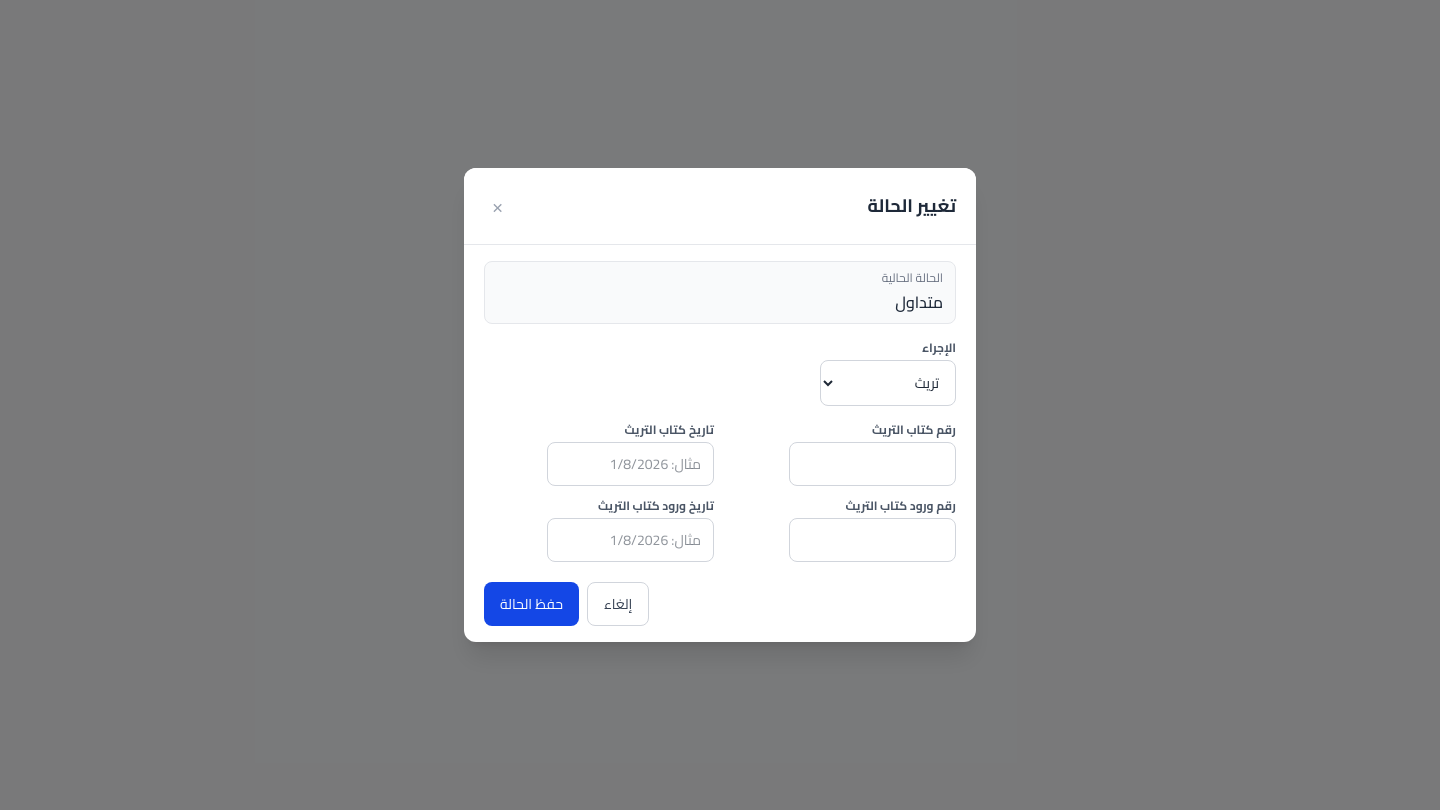
StatusChangeModal › يرفض منفذ جبريا دون تاريخ قرار الإحالة القطعية
Select "منفذ جبريا" in the dropdown labelled "الإجراء" at [888, 383], box [820,360,956,406]
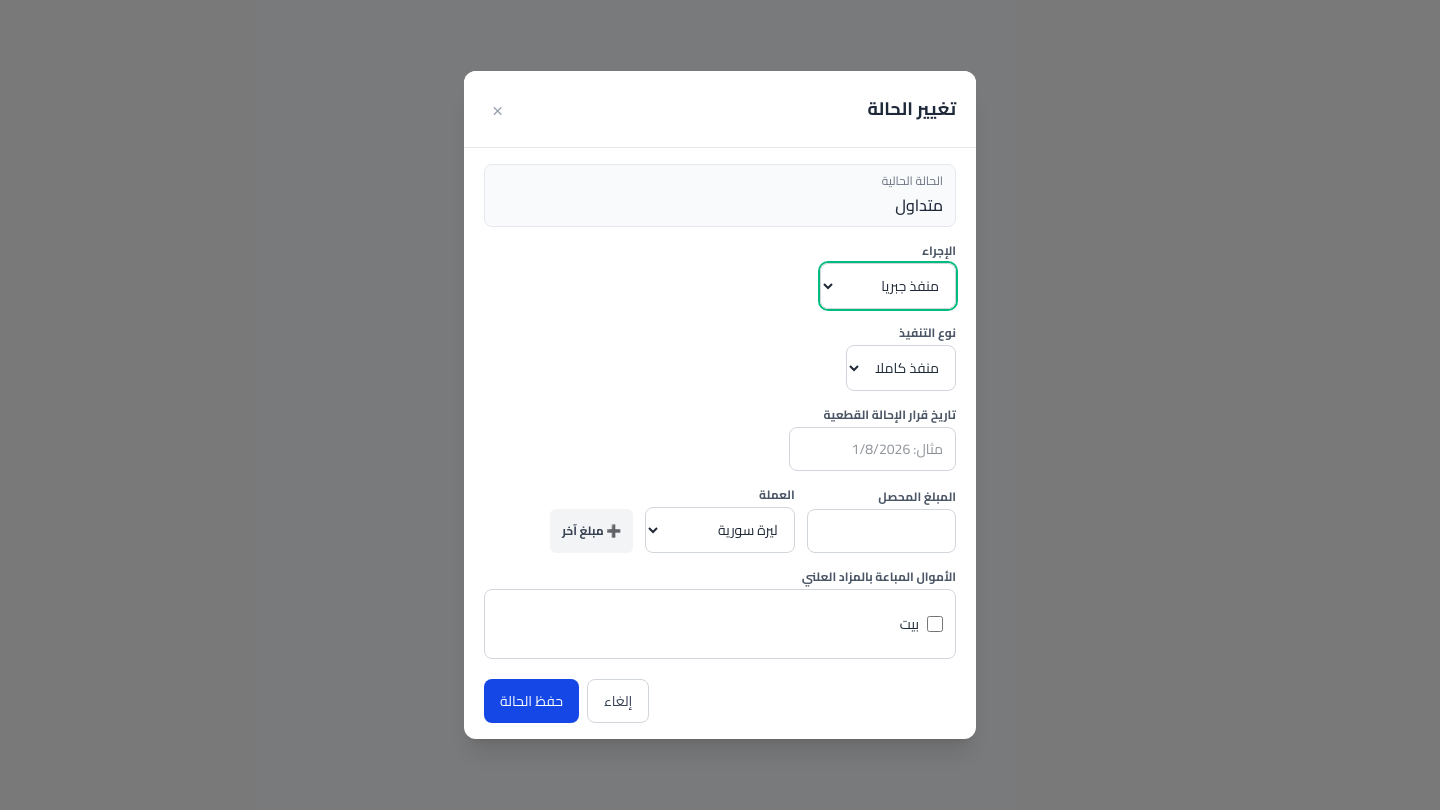
Click the checkbox labelled "بيت" at [935, 624], box [927,602,943,646]
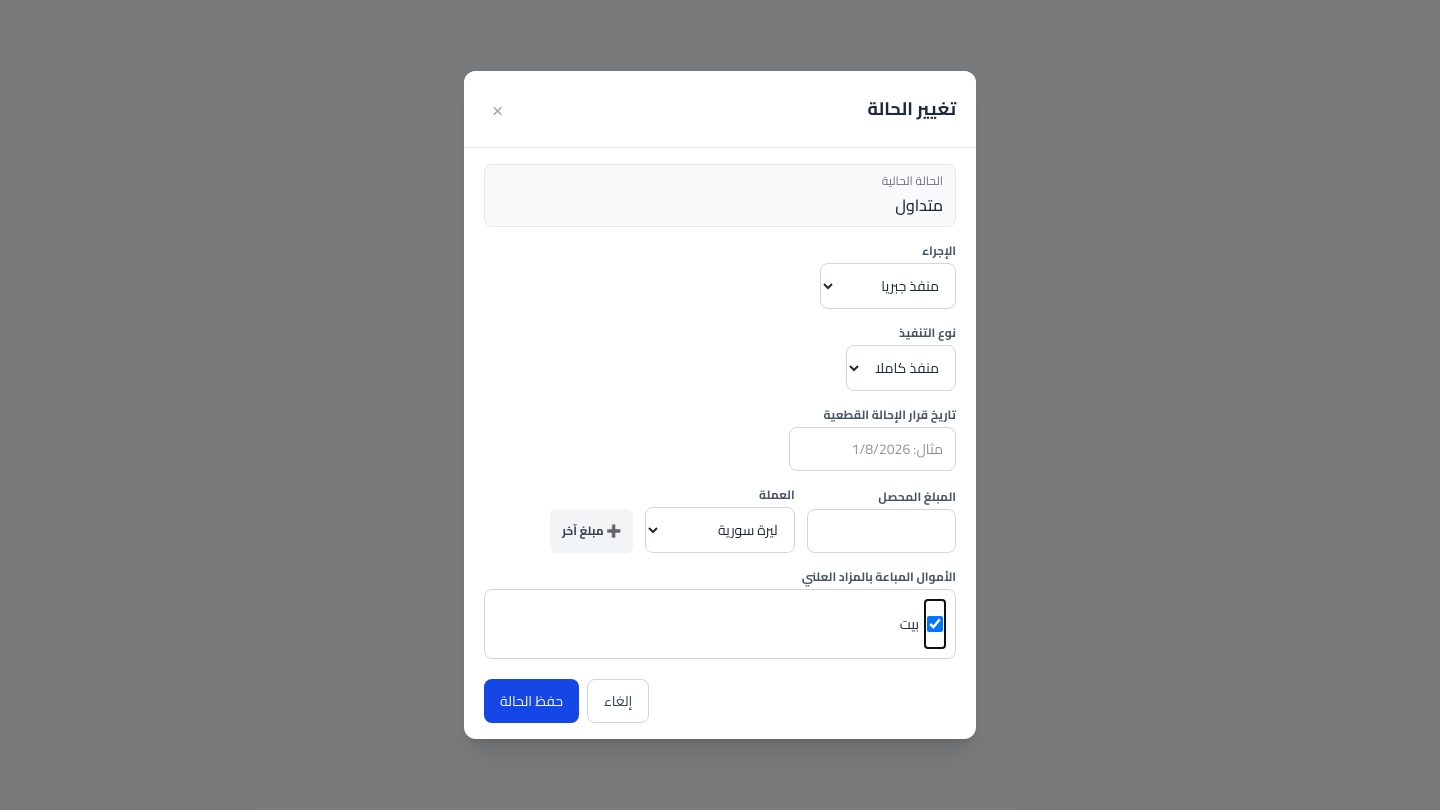
Click the button "حفظ الحالة" at [532, 701], box [484,679,579,723]
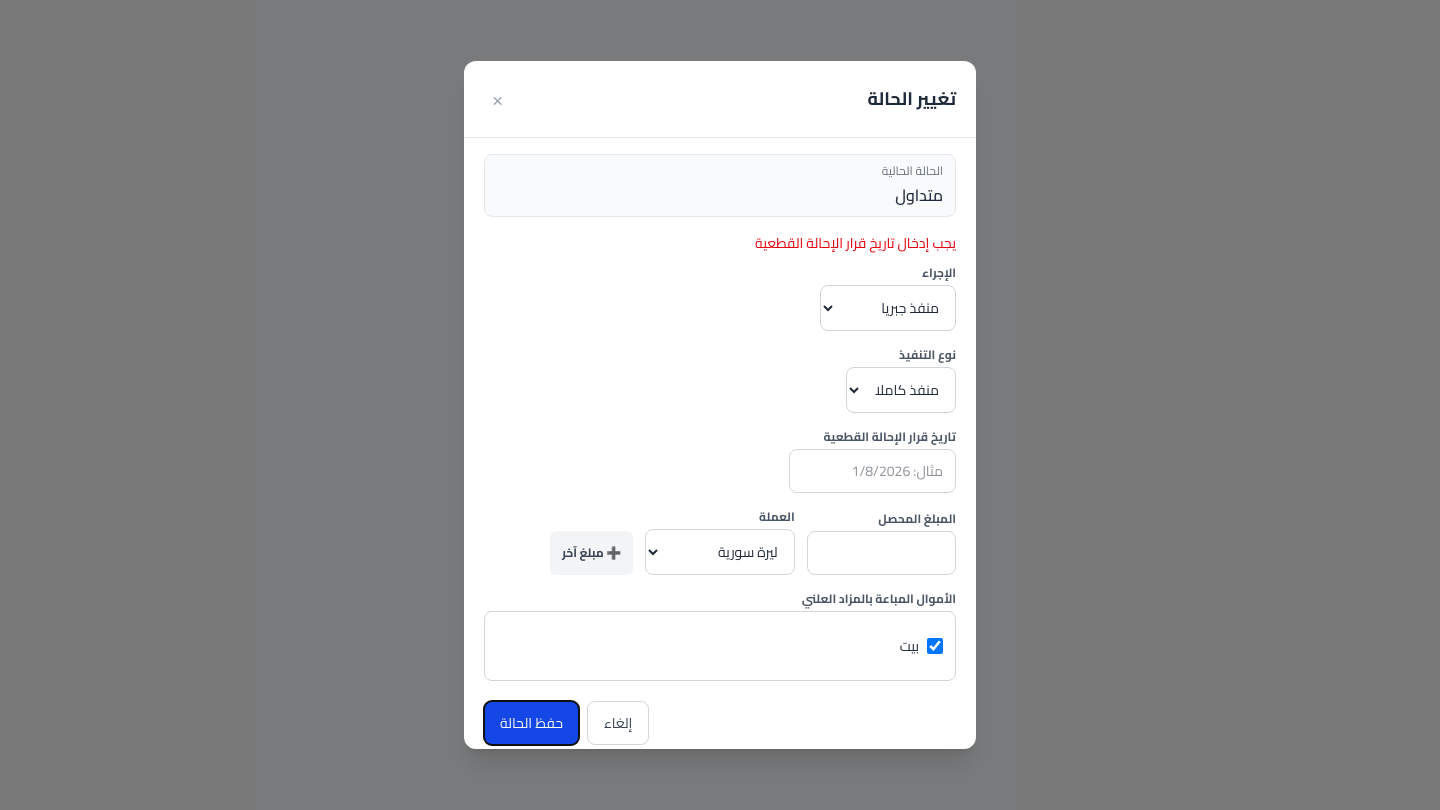
Now the text "يجب إدخال تاريخ قرار الإحالة القطعية" is shown, box [755,230,956,256]
